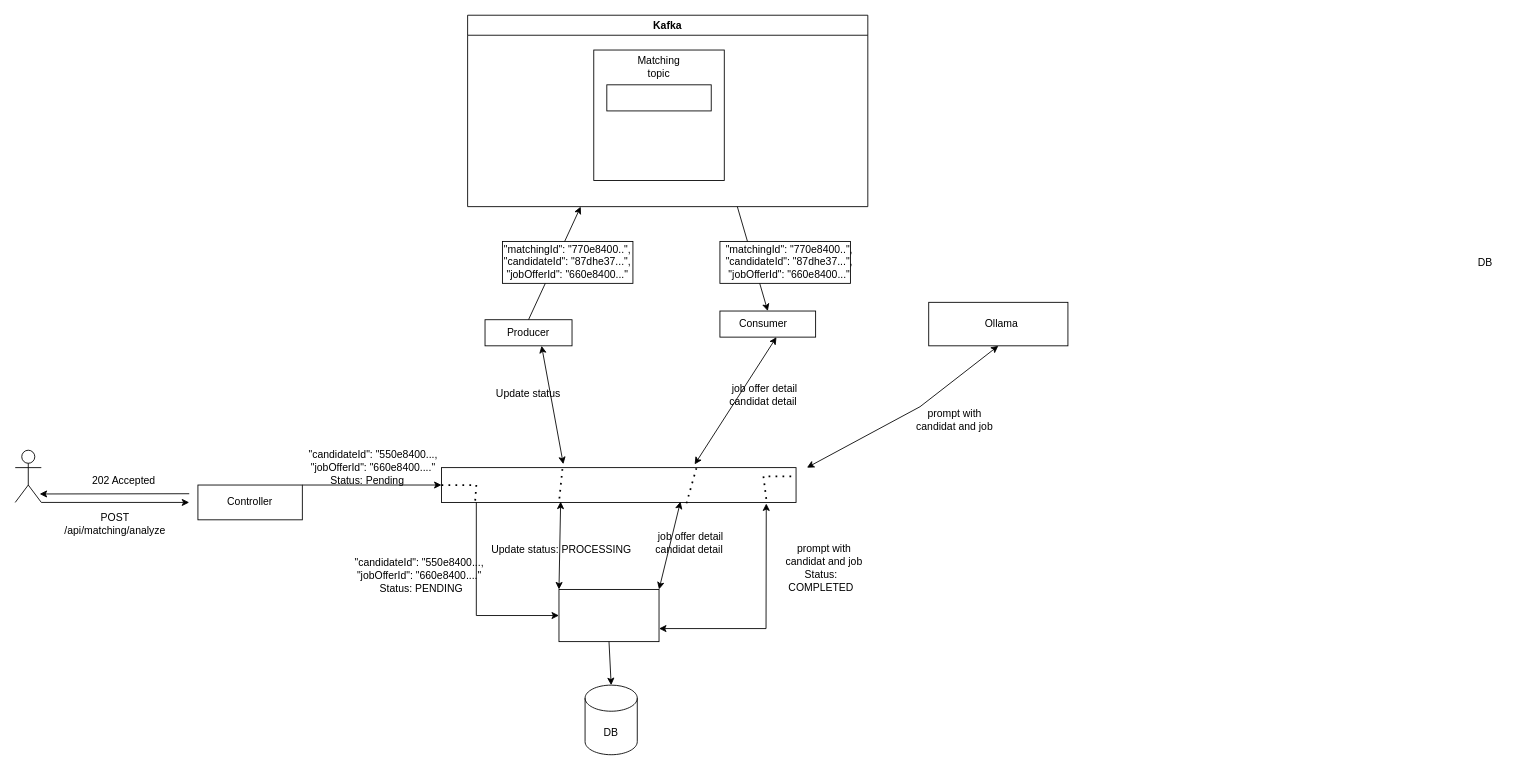
Image size: 1527x770. Some labels were removed from this diagram. The shapes that lost their labels are listed below. From the top down, each one's centre as x and y in pixels, then its label:
[658,97]: matchingId": "770e8400..
[27,475]: client
[618,484]: Service
[608,615]: Repo
